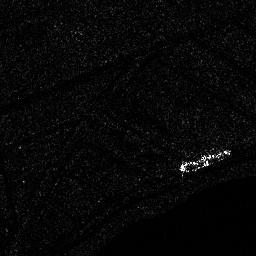ship: (179, 150, 233, 172)
